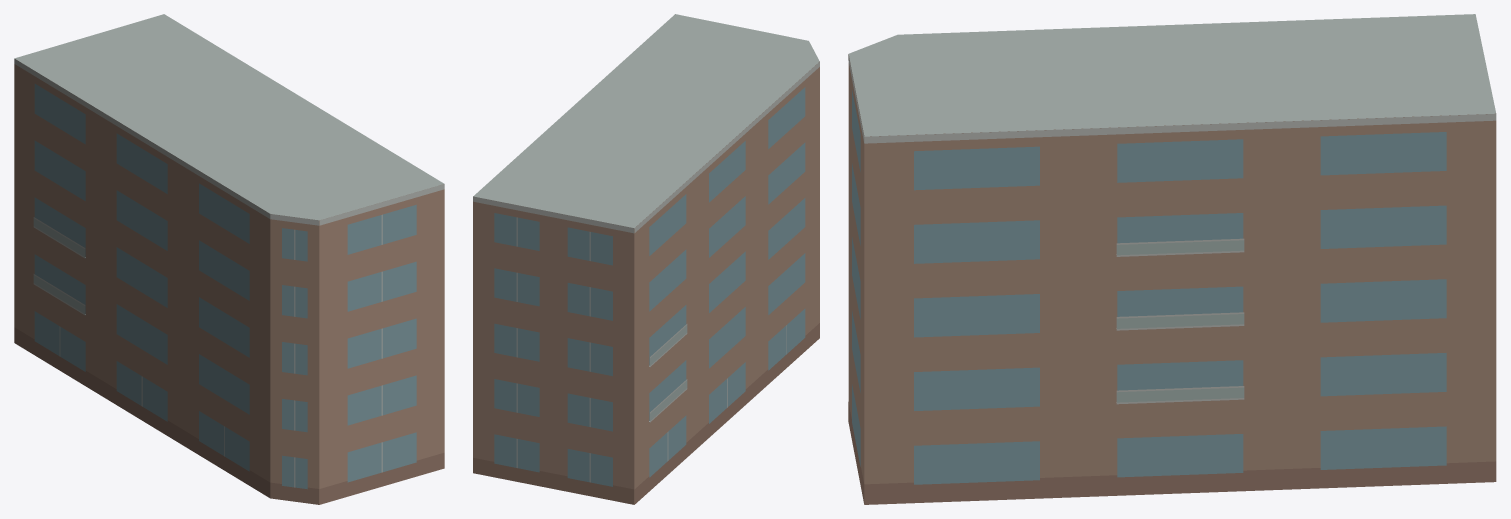
File: survey-upis-32655296.glb
The picture shows the model from 3 angles, left to right: view 1: azimuth 30°, elevation 25°; view 2: azimuth 150°, elevation 25°; view 3: azimuth 270°, elevation 25°; orthographic projection. The views are drawn at different scales.
Parts seen in each view (by area): view 1: survey-upis-32655296.tmp; view 2: survey-upis-32655296.tmp; view 3: survey-upis-32655296.tmp.
Boxes of the visible parts, x1,y1,x2,y2 form: survey-upis-32655296.tmp: (14, 14, 444, 504); survey-upis-32655296.tmp: (473, 14, 819, 504); survey-upis-32655296.tmp: (848, 14, 1496, 504).
Bounding box in the file's own units: 9.22 × 12.9 × 20.58.
